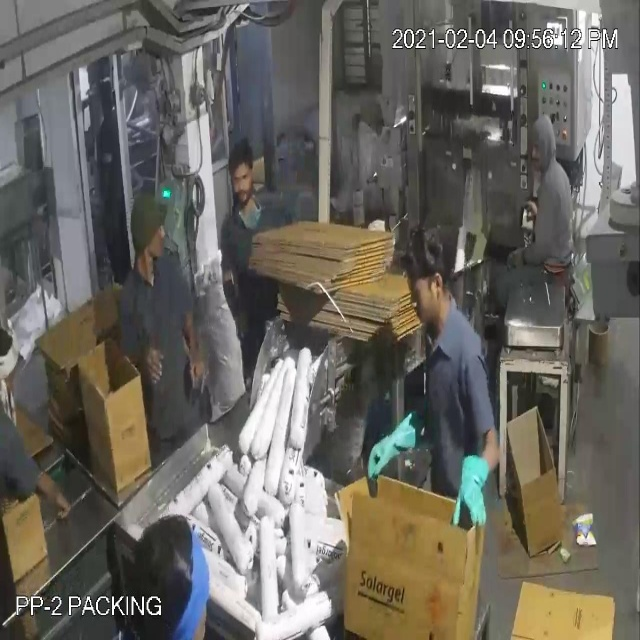Guantes: (347, 387, 430, 484), (443, 436, 499, 545)
Sin_guantes: (19, 440, 78, 544), (178, 299, 214, 412), (217, 257, 256, 361), (126, 328, 169, 390)
